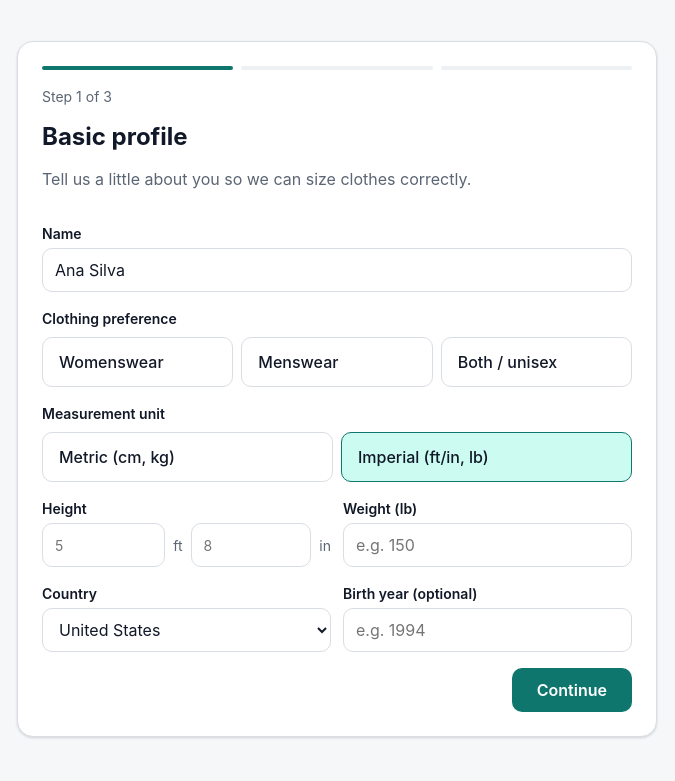
fashion onboarding › prefills the name and validates required basics
Expected: the field labelled "Name" holds "Ana Silva", left=42, top=248, right=632, bottom=292
Click the button "Continue".
click(572, 690)  # box left=512, top=668, right=632, bottom=712
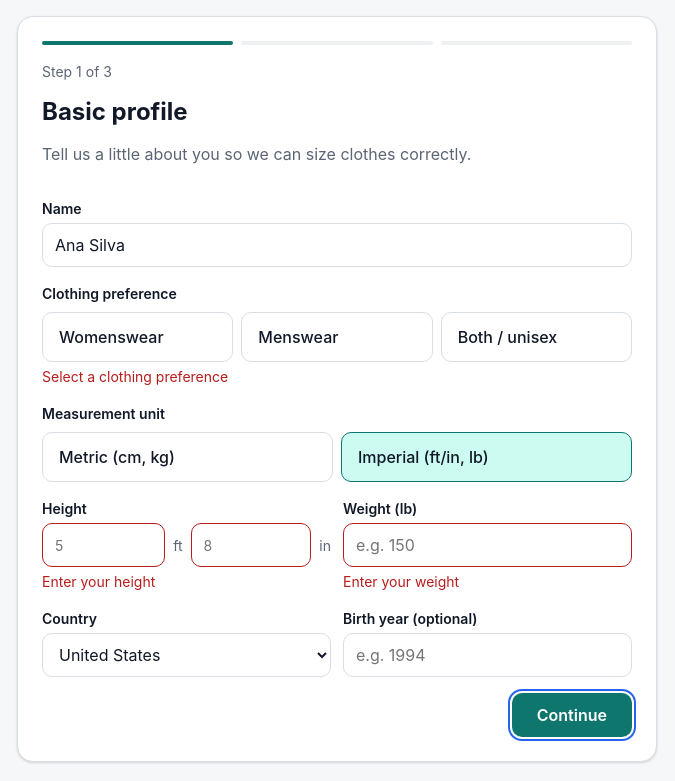
Expected: the heading "Basic profile" is shown, left=42, top=97, right=188, bottom=126
Result: the text "Select a clothing preference" is shown at left=42, top=368, right=228, bottom=385
Result: the text "Enter your height" is shown at left=42, top=573, right=155, bottom=590
# Fixing a field clears its message straight away.
Click the radio button labelled "Womenswear".
click(138, 337)  # box left=42, top=312, right=233, bottom=362
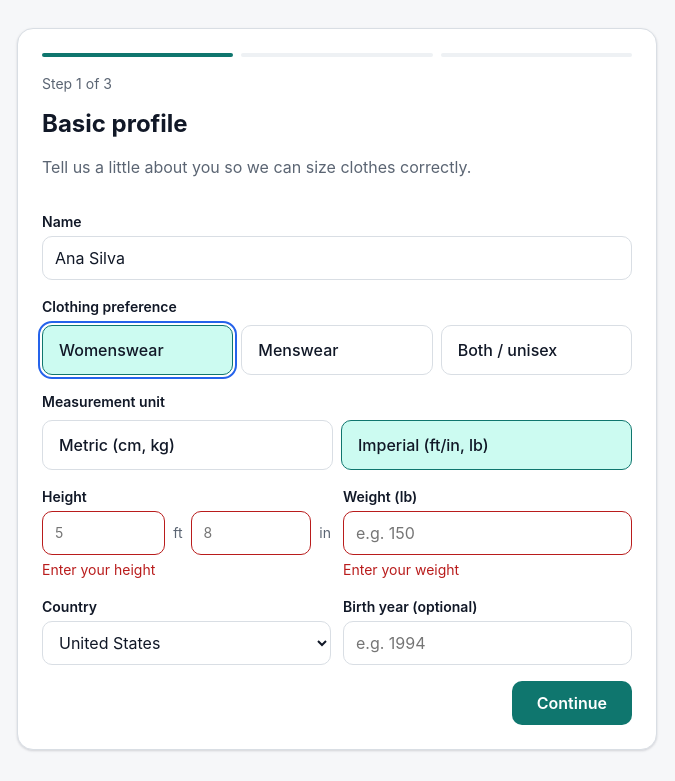
Result: the text "Enter your height" is shown at left=42, top=561, right=155, bottom=578
Result: the text "Select a clothing preference" is gone
